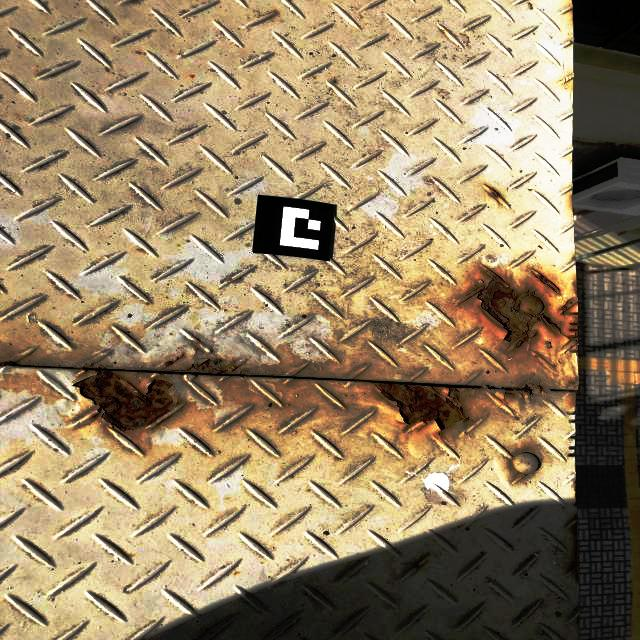Corrosion: (470, 267, 560, 350), (73, 371, 178, 432), (374, 383, 465, 430), (490, 377, 544, 403), (187, 358, 245, 374), (532, 268, 562, 294), (560, 296, 579, 314), (0, 357, 20, 366), (162, 359, 177, 369), (490, 189, 500, 200), (568, 336, 574, 340)
